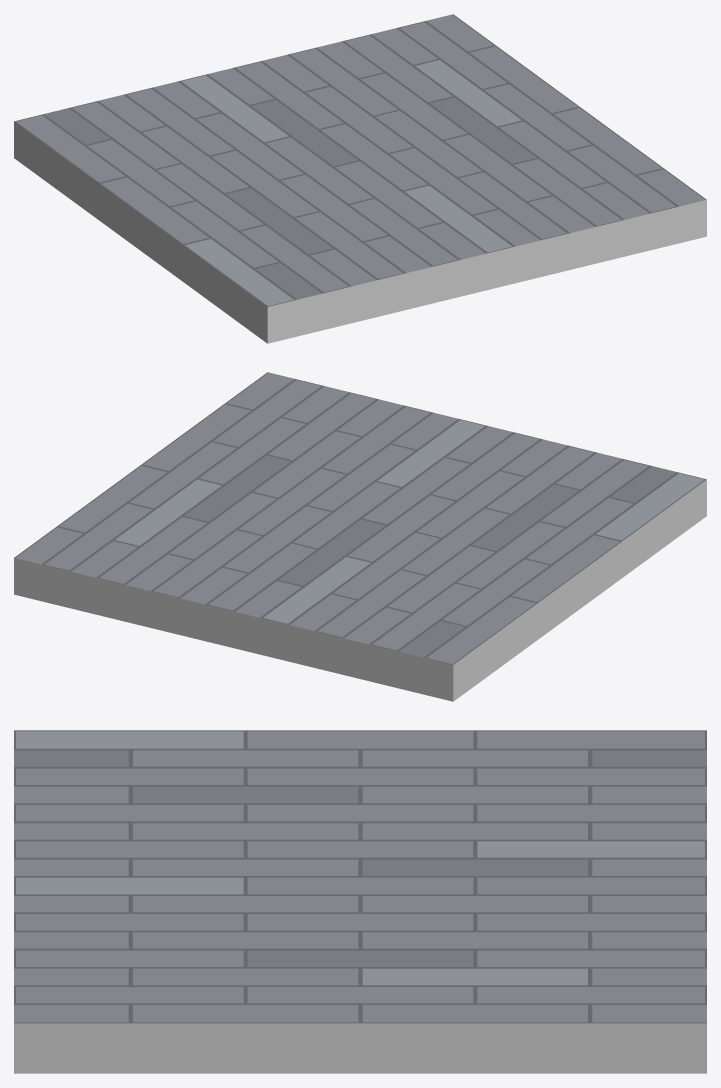
The model's file is Floor12_01.fbx.
3 views of the same model, one above another, from view 1: azimuth 30°, elevation 25°; view 2: azimuth 150°, elevation 25°; view 3: azimuth 270°, elevation 25° (orthographic). The views are drawn at different scales.
Visible parts, largest first — view 1: Floor12_01; view 2: Floor12_01; view 3: Floor12_01.
Boxes of the visible parts, x1,y1,x2,y2 form: Floor12_01: [14, 14, 706, 343]; Floor12_01: [14, 372, 706, 701]; Floor12_01: [14, 730, 706, 1073].
Bounding box in the file's own units: 250 × 20 × 250.
